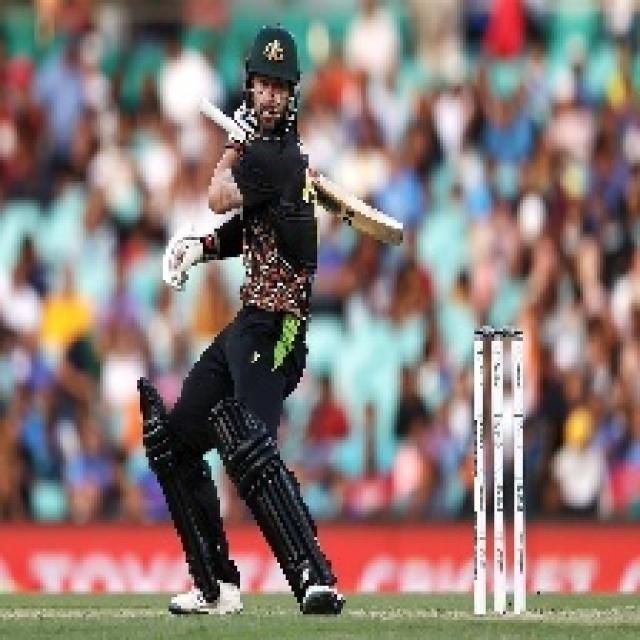batsman: (113, 15, 412, 640)
wicket: (468, 312, 548, 622)
